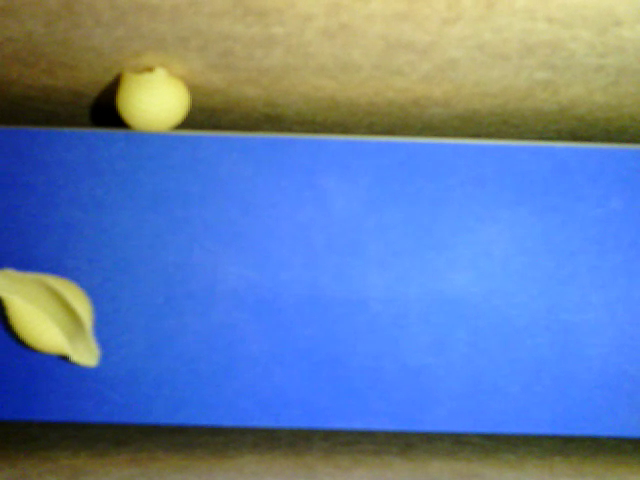shell: (1, 266, 101, 368), (116, 66, 191, 131)
